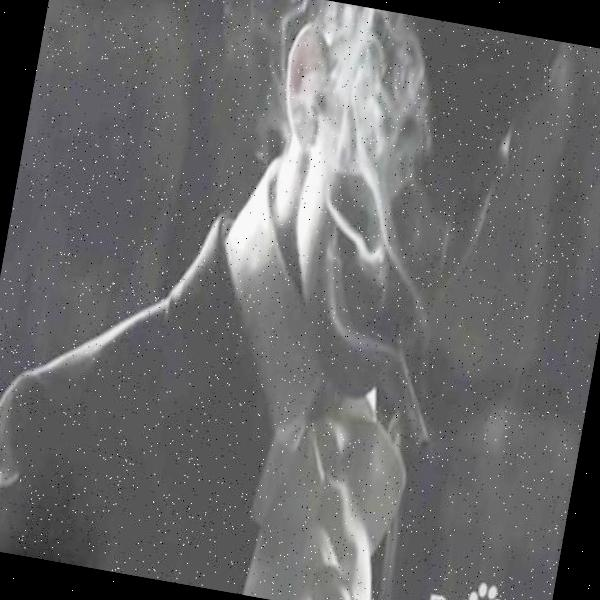smoke: (300, 1, 447, 199)
